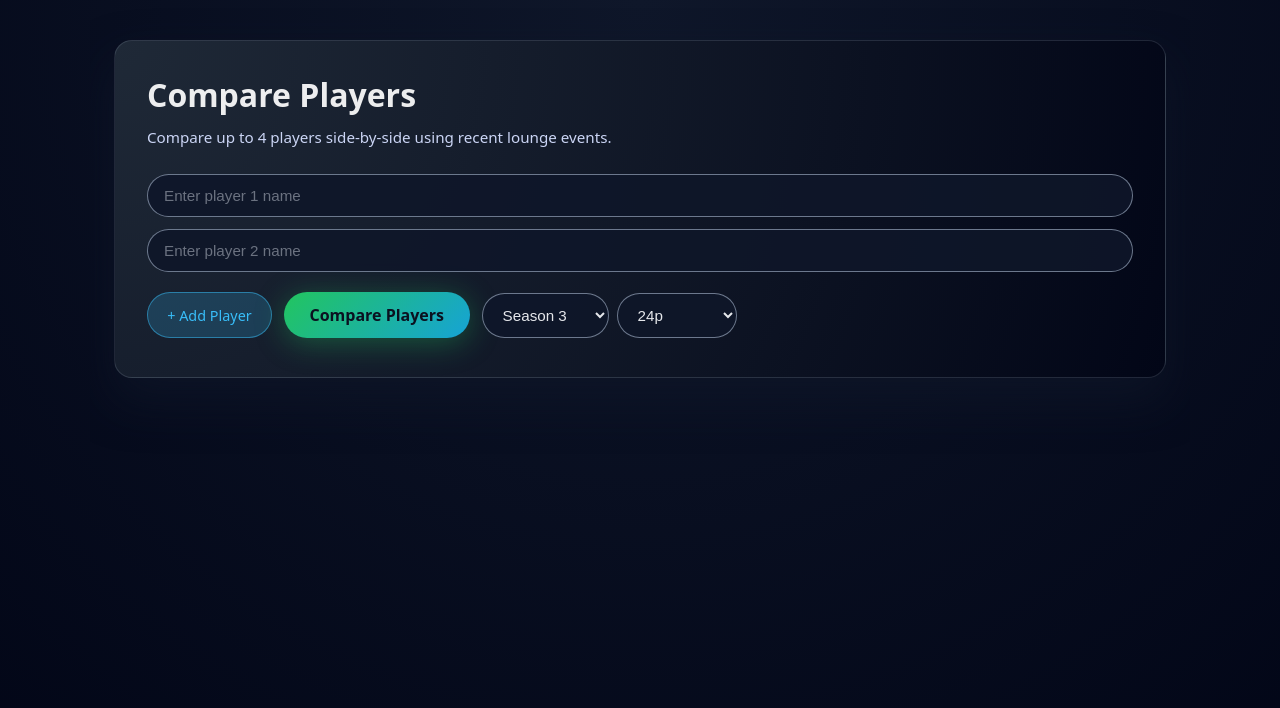
Scenario: PlayerComparison › says which players were left out when some could not be loaded
Click the button "+ Add Player". click: (209, 315)
box: top-left (147, 292), bottom-right (272, 338)
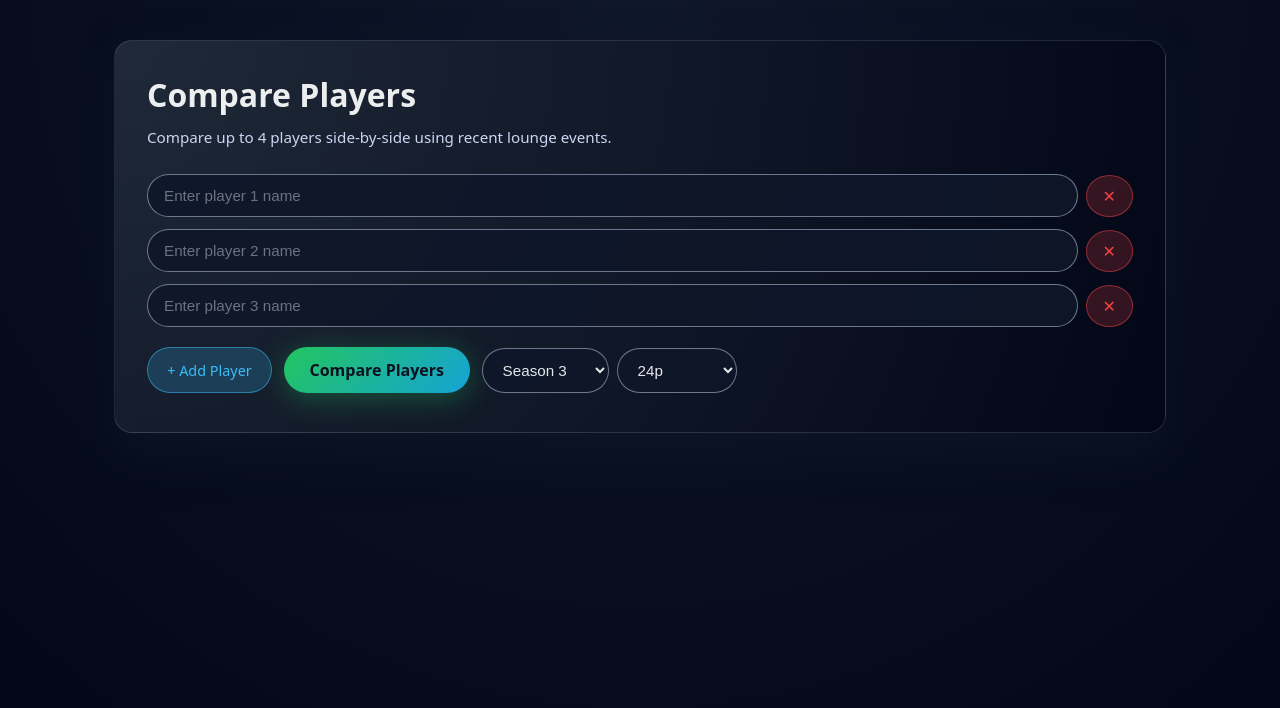
Type "Amy" into the dropdown labelled "player 1 name". click: (612, 196)
box: top-left (147, 174), bottom-right (1078, 217)
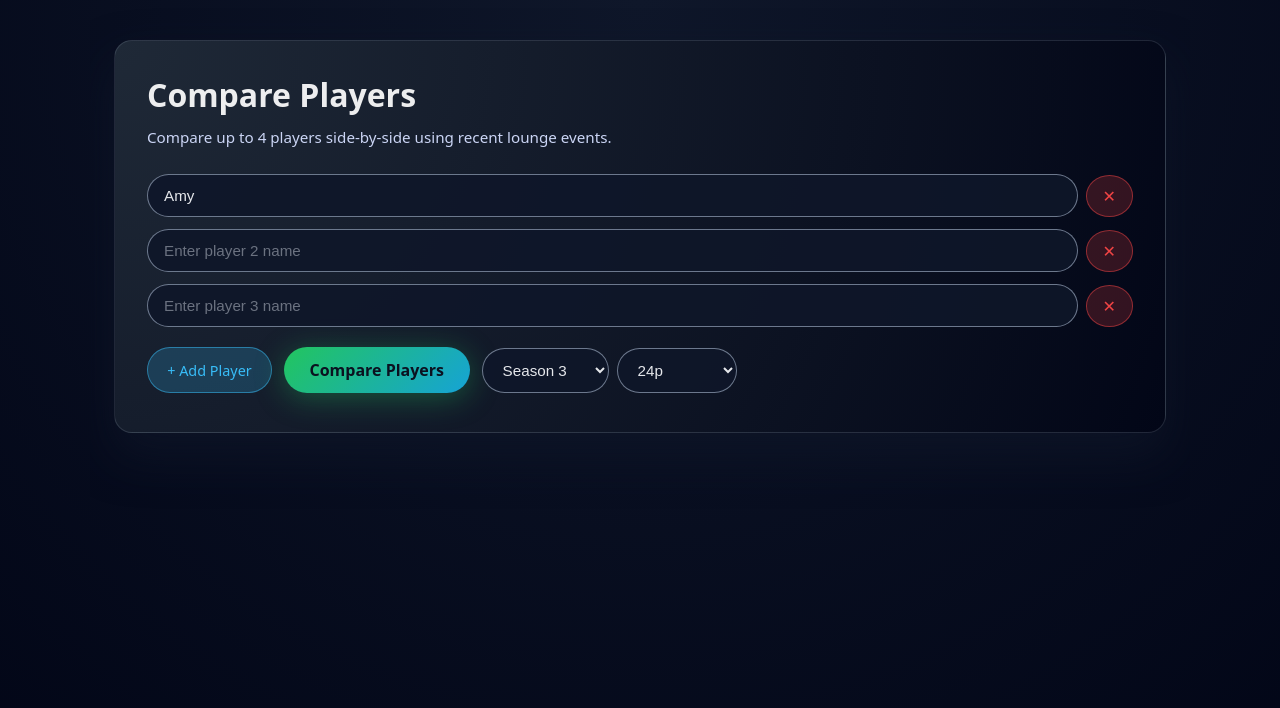
Type "Ghost" into the dropdown labelled "player 2 name". click: (612, 251)
box: top-left (147, 229), bottom-right (1078, 272)
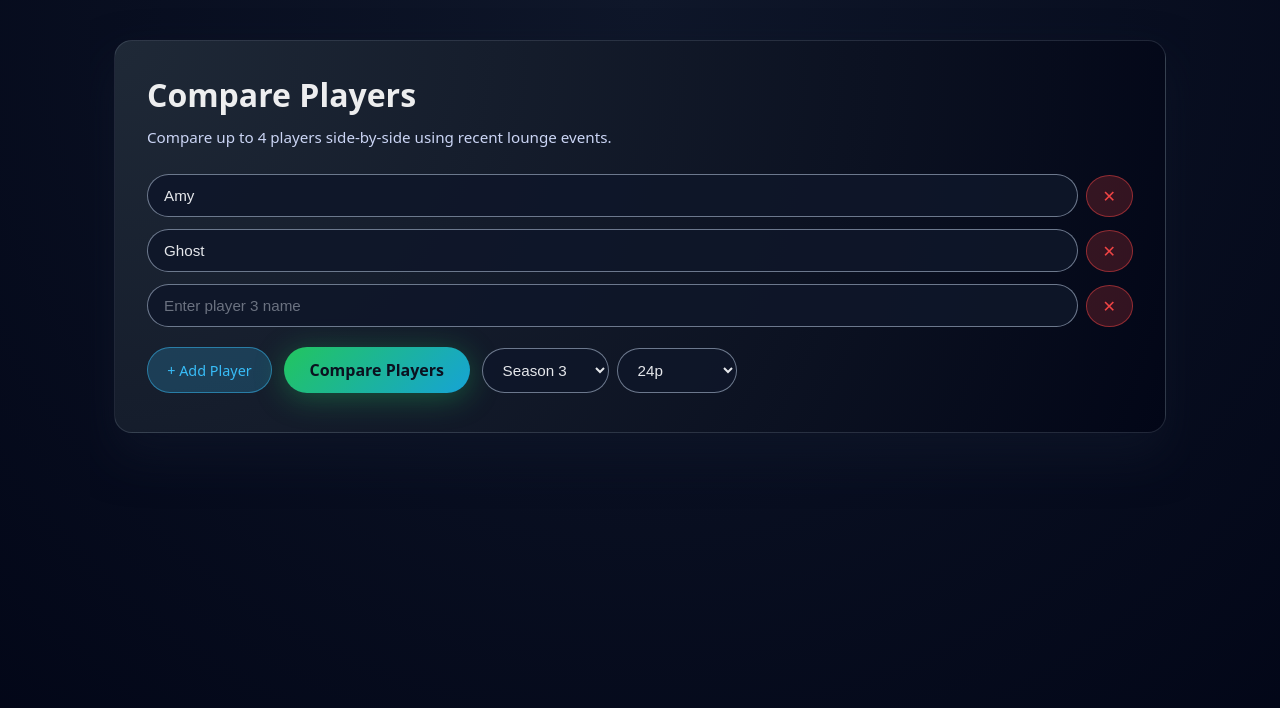
Type "Zed" into the dropdown with placeholder "Enter player 3 name". click: (612, 306)
box: top-left (147, 284), bottom-right (1078, 327)
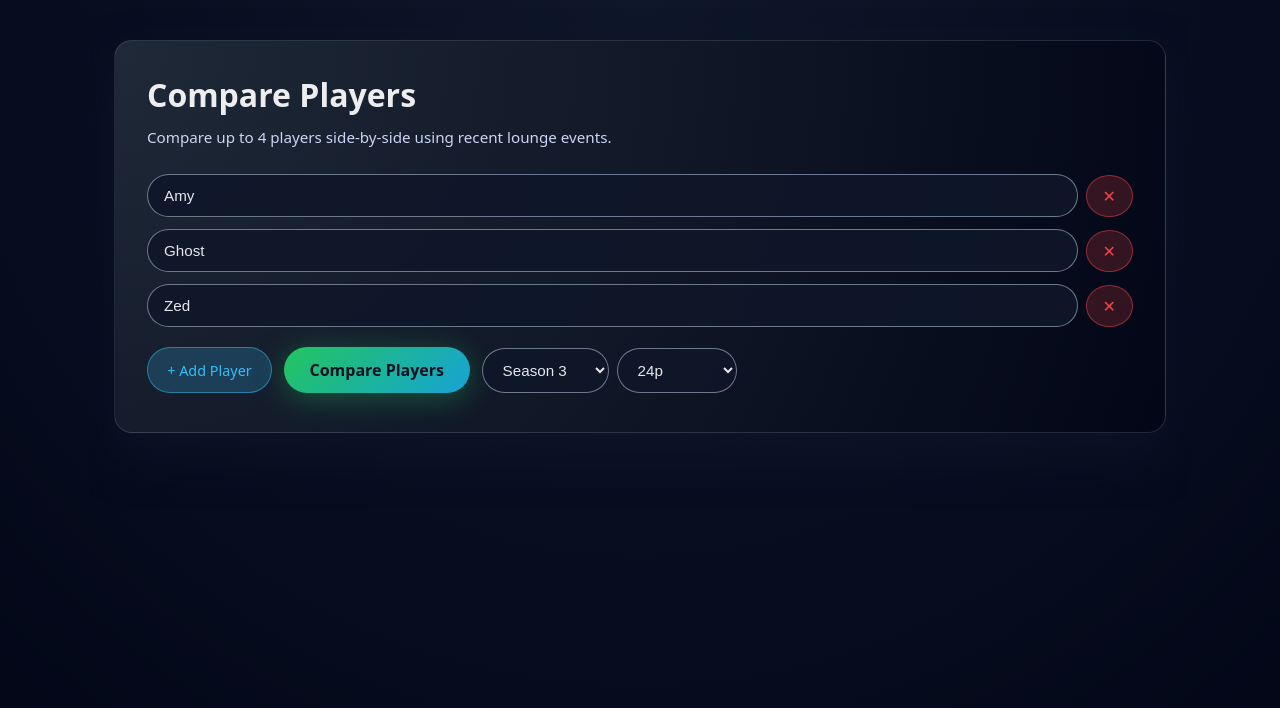
Click the button with aria-label "Compare selected players". click: (377, 370)
box: top-left (284, 347), bottom-right (470, 393)
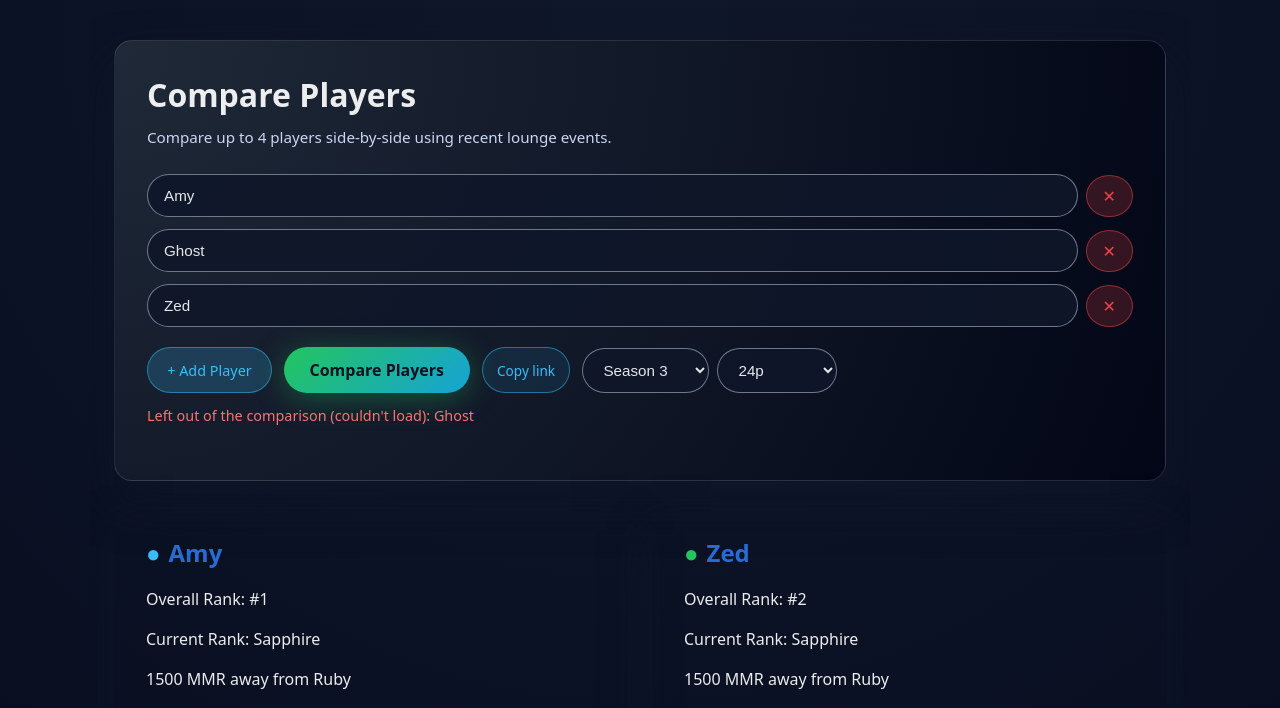
Expected: the text "Left out of the comparison (couldn't load): Ghost" is shown, top-left (147, 406), bottom-right (474, 425)
Expected: the heading "● Amy" is shown, top-left (146, 536), bottom-right (222, 569)
Expected: the heading "● Zed" is shown, top-left (684, 536), bottom-right (750, 569)
